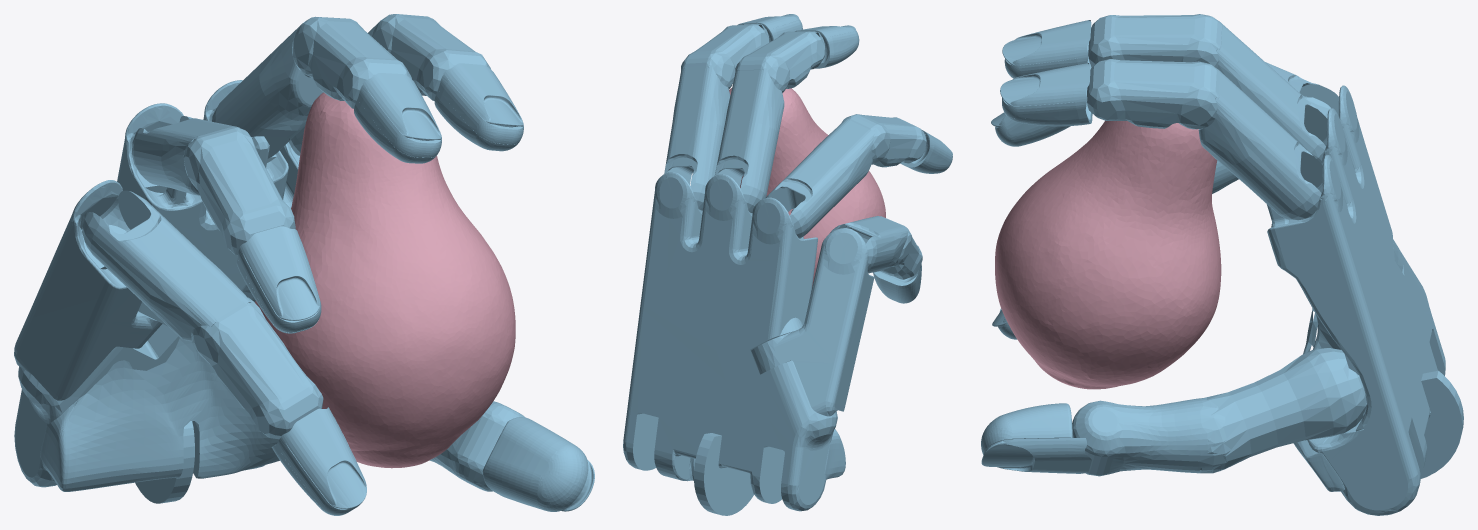
The picture shows the model from 3 angles, left to right: view 1: azimuth 30°, elevation 25°; view 2: azimuth 150°, elevation 25°; view 3: azimuth 270°, elevation 25°; orthographic projection. The views are drawn at different scales.
Visible parts, largest first — view 1: world, pear.stl; view 2: world, pear.stl; view 3: world, pear.stl.
Part boxes in pixels (bbox=[...]): world: bbox=[14, 14, 594, 515]; pear.stl: bbox=[255, 92, 515, 468]; world: bbox=[623, 14, 952, 515]; pear.stl: bbox=[729, 88, 885, 286]; world: bbox=[981, 14, 1463, 515]; pear.stl: bbox=[995, 120, 1221, 389].
Size of the model in its own units: 0.1072 by 0.1565 by 0.1401.
